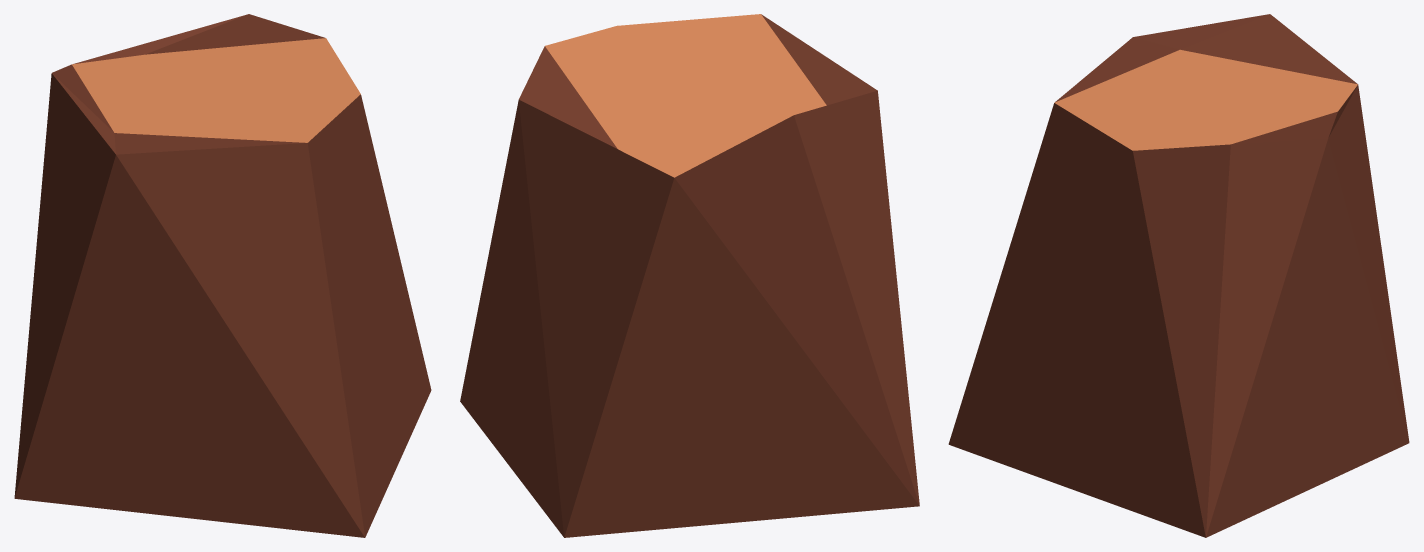
File: pine_trunk_type_1_LOD3.fbx
3 renders of one model, left to right at view 1: azimuth 30°, elevation 25°; view 2: azimuth 150°, elevation 25°; view 3: azimuth 270°, elevation 25°, orthographic. The views are drawn at different scales.
Parts seen in each view (by area): view 1: pine_trunk; view 2: pine_trunk; view 3: pine_trunk.
Boxes of the visible parts, x1,y1,x2,y2 form: pine_trunk: [14, 14, 431, 537]; pine_trunk: [460, 14, 919, 537]; pine_trunk: [948, 14, 1409, 537].
Size of the model in its own units: 129 by 110 by 127.
